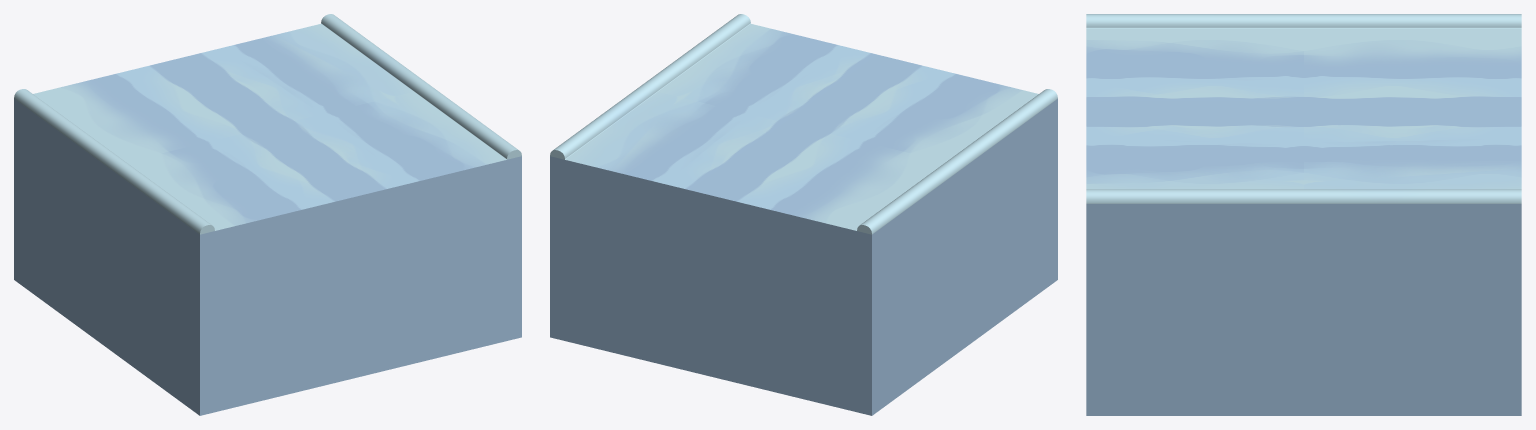
File: Final_Stage.fbx
3 renders of one model, left to right at view 1: azimuth 30°, elevation 25°; view 2: azimuth 150°, elevation 25°; view 3: azimuth 270°, elevation 25°, orthographic. The views are drawn at different scales.
Visible parts, largest first — view 1: Platform_Final_01; view 2: Platform_Final_01; view 3: Platform_Final_01.
Boxes of the visible parts, x1=… form: Platform_Final_01: x1=14, y1=14, x2=521, y2=415; Platform_Final_01: x1=550, y1=14, x2=1057, y2=415; Platform_Final_01: x1=1086, y1=14, x2=1521, y2=415.
Size of the model in its own units: 50 by 28.02 by 50.
